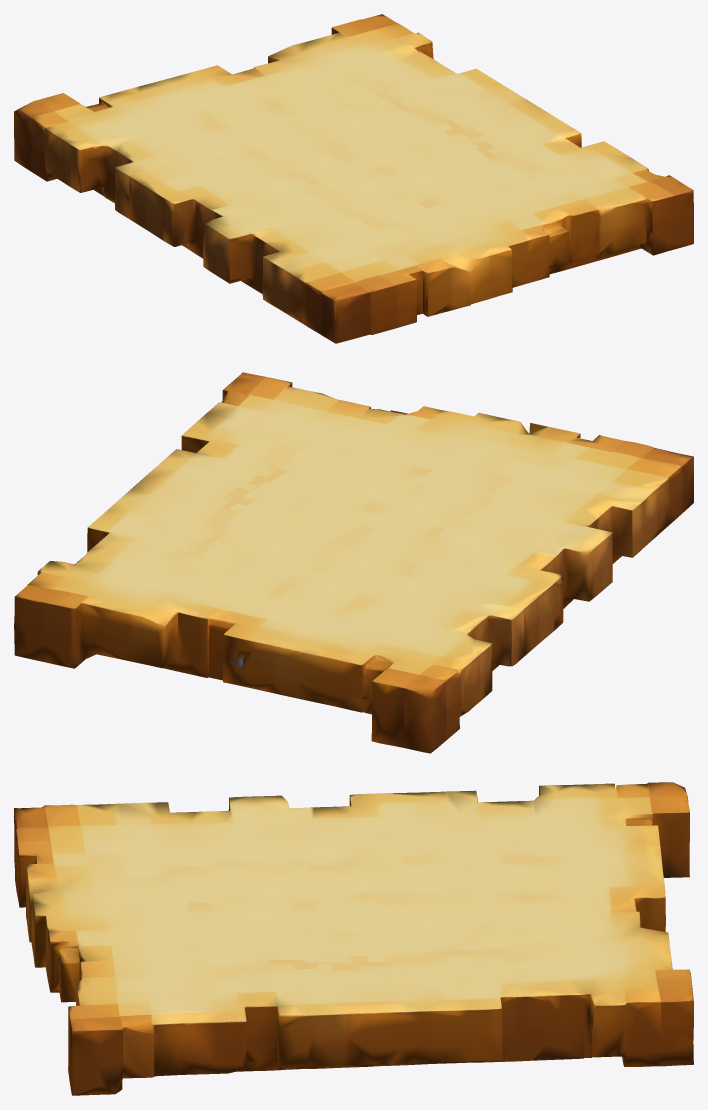
Rendered from desk-parchment.glb.
The picture shows the model from 3 angles, top to bottom: view 1: azimuth 30°, elevation 25°; view 2: azimuth 150°, elevation 25°; view 3: azimuth 270°, elevation 25°; orthographic projection. The views are drawn at different scales.
Visible parts, largest first — view 1: tripo_node_d5f12731-d16e-40d0-abc6-5e2269b09710; view 2: tripo_node_d5f12731-d16e-40d0-abc6-5e2269b09710; view 3: tripo_node_d5f12731-d16e-40d0-abc6-5e2269b09710.
Boxes of the visible parts, x1=… form: tripo_node_d5f12731-d16e-40d0-abc6-5e2269b09710: x1=14, y1=14, x2=693, y2=343; tripo_node_d5f12731-d16e-40d0-abc6-5e2269b09710: x1=14, y1=372, x2=693, y2=753; tripo_node_d5f12731-d16e-40d0-abc6-5e2269b09710: x1=14, y1=782, x2=693, y2=1095.
Size of the model in its own units: 0.3033 by 0.0376 by 0.35.
1 material, 1 textured.
